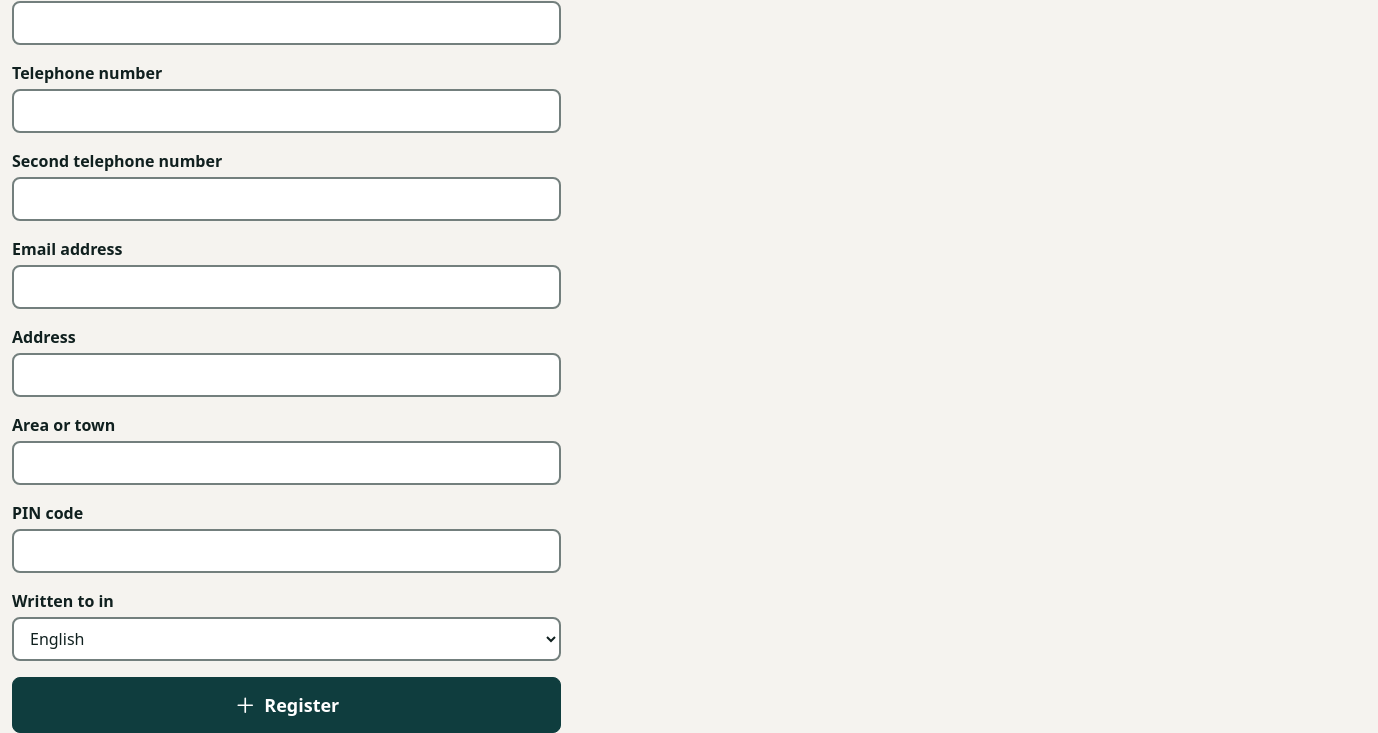
Test case: refuses to submit with no name, and asks the server nothing
(page scrolled)
Click the button "Register". click: (287, 705)
box: [12, 677, 561, 732]
(page scrolled)
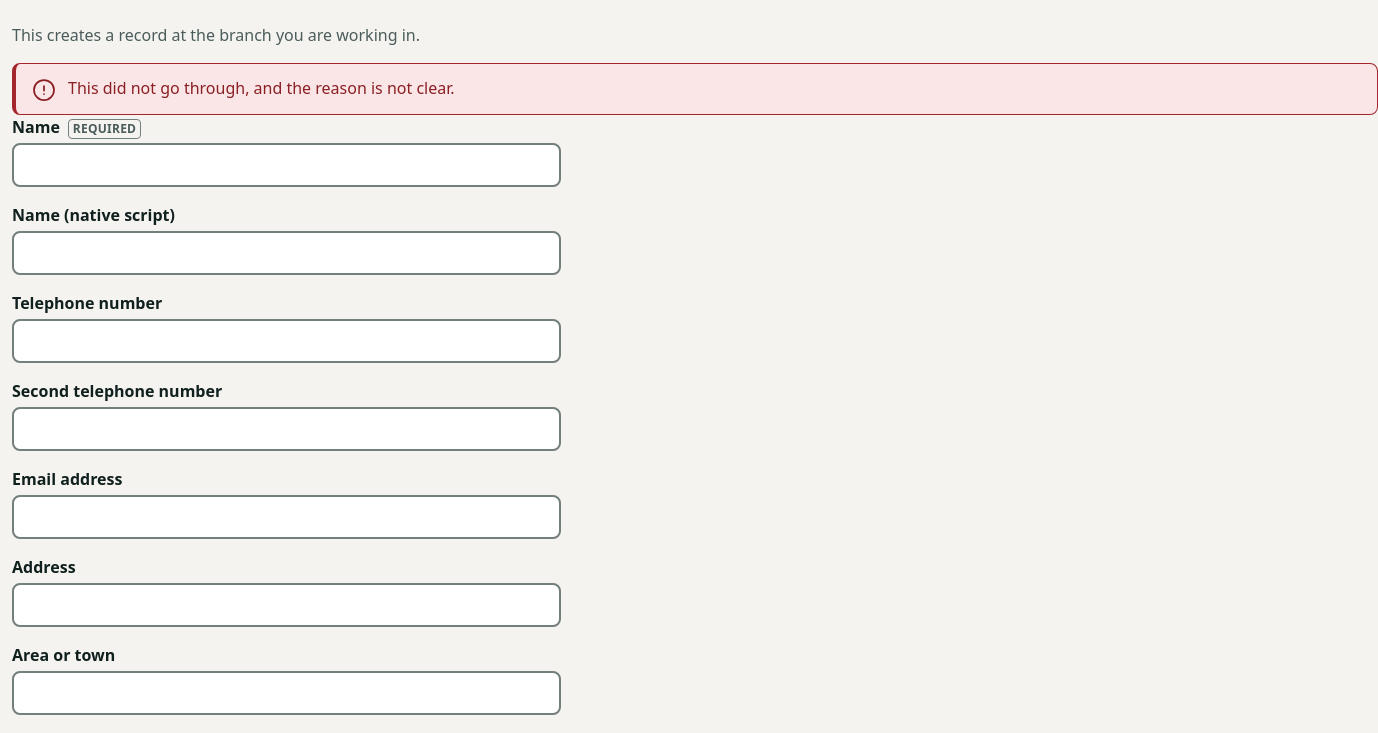
Expected: the message "This did not go through, and the reason is not clear." is shown, [12, 63, 1377, 115]
